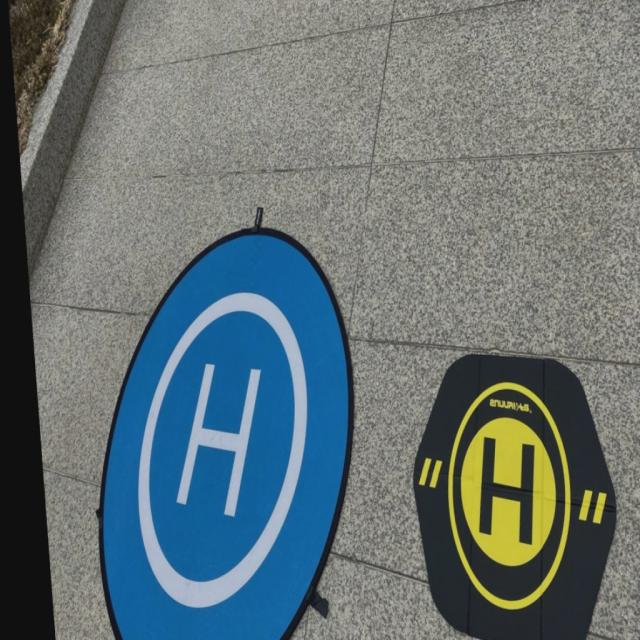helipad: (131, 290, 312, 612), (441, 377, 577, 613)
